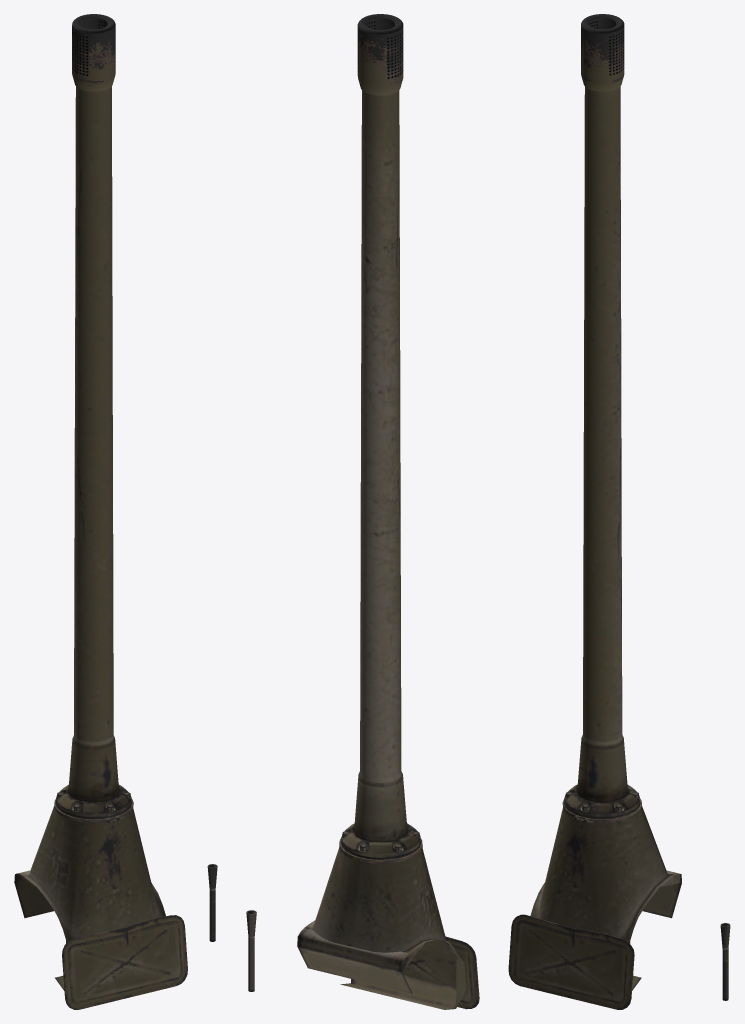
File: Gun_02.glb
3 views of the same model, side by side, from view 1: azimuth 30°, elevation 25°; view 2: azimuth 150°, elevation 25°; view 3: azimuth 330°, elevation 25° (orthographic). The views are drawn at different scales.
Parts seen in each view (by area): view 1: set_0_group_0; view 2: set_0_group_0; view 3: set_0_group_0.
Part boxes in pixels (x1=…): set_0_group_0: x1=14, y1=14, x2=217, y2=1009; set_0_group_0: x1=246, y1=14, x2=479, y2=1009; set_0_group_0: x1=508, y1=14, x2=730, y2=1009.
Size of the model in its own units: 0.9326 by 4.55 by 0.5503.
1 material, 1 textured.
